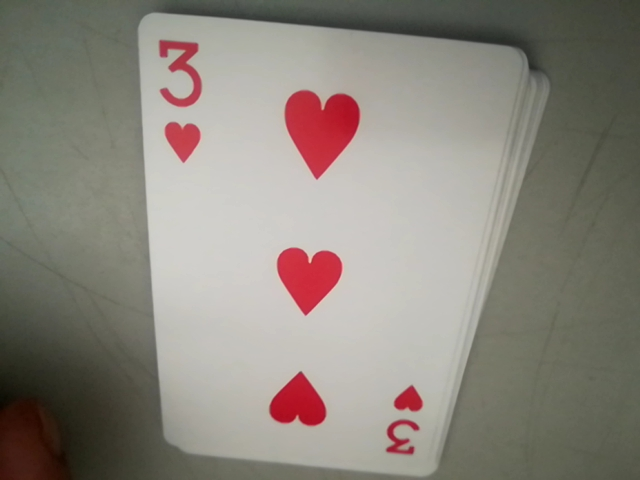hx 3: (157, 39, 205, 162), (379, 385, 428, 457)
